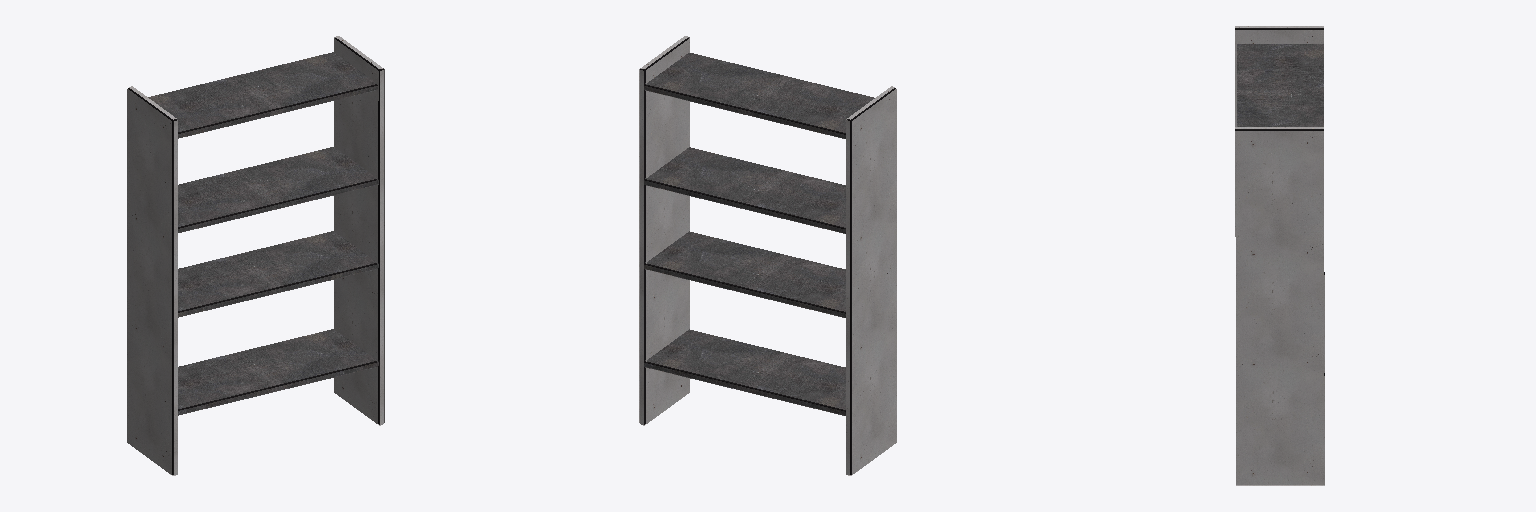
3 renders of one model, left to right at view 1: azimuth 30°, elevation 25°; view 2: azimuth 150°, elevation 25°; view 3: azimuth 270°, elevation 25°, orthographic.
Parts seen in each view (by area): view 1: Union9, Union7, Union11, Union2, Union1, Union8; view 2: Union9, Union7, Union14, Union6, Union1, Union8; view 3: Union4, Union9.
Boxes of the visible parts, x1=… form: Union9: x1=148, y1=52, x2=377, y2=408; Union7: x1=127, y1=38, x2=378, y2=474; Union11: x1=178, y1=86, x2=378, y2=414; Union2: x1=174, y1=70, x2=383, y2=474; Union1: x1=128, y1=38, x2=383, y2=474; Union8: x1=178, y1=84, x2=378, y2=410; Union9: x1=645, y1=53, x2=874, y2=409; Union7: x1=646, y1=38, x2=896, y2=474; Union14: x1=644, y1=86, x2=845, y2=415; Union6: x1=640, y1=70, x2=849, y2=474; Union1: x1=640, y1=38, x2=895, y2=474; Union8: x1=645, y1=84, x2=845, y2=411; Union4: x1=1235, y1=30, x2=1324, y2=484; Union9: x1=1237, y1=44, x2=1323, y2=126.
Bounding box in the file's own units: 4.06 × 6.5 × 1.51.
Materials: 3 (2 with a texture image).